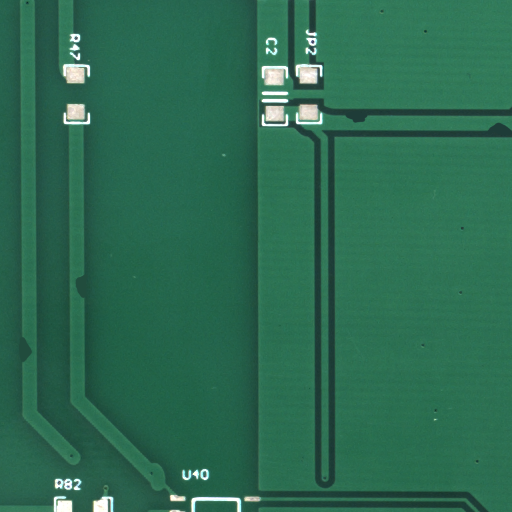Mouse_bite: (25, 347, 48, 393), (357, 115, 389, 136), (80, 286, 97, 318), (498, 128, 512, 147)
